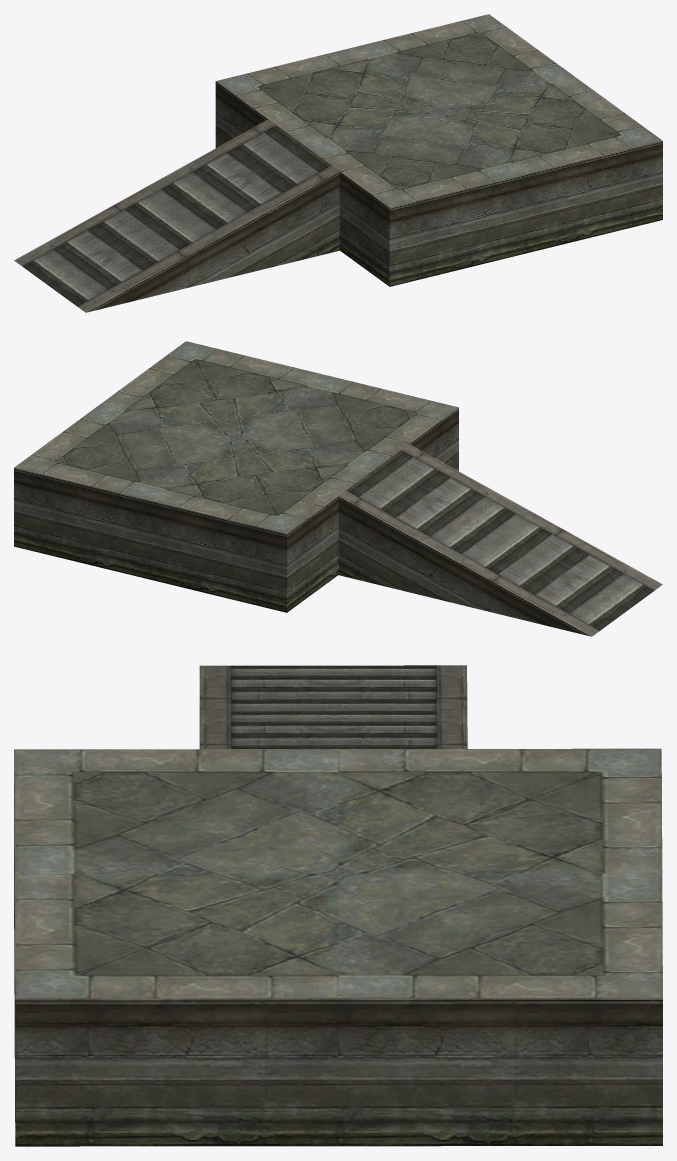
File: Opticals_3.FBX
3 renders of one model, top to bottom at view 1: azimuth 30°, elevation 25°; view 2: azimuth 150°, elevation 25°; view 3: azimuth 270°, elevation 25°, orthographic. The views are drawn at different scales.
Visible parts, largest first — view 1: ElementClient-320ee538.obj, Object001, Object002; view 2: ElementClient-320ee538.obj, Object001, Object002; view 3: ElementClient-320ee538.obj, Object002, Object001.
Part boxes in pixels (<box>): ElementClient-320ee538.obj: <box>216,14,662,207</box>; Object001: <box>14,119,339,312</box>; Object002: <box>215,81,662,286</box>; ElementClient-320ee538.obj: <box>14,341,458,533</box>; Object001: <box>338,444,662,636</box>; Object002: <box>14,408,458,612</box>; ElementClient-320ee538.obj: <box>14,748,662,998</box>; Object002: <box>14,748,662,1146</box>; Object001: <box>199,665,467,749</box>.
Size of the model in its own units: 146 by 20.96 by 83.19.
